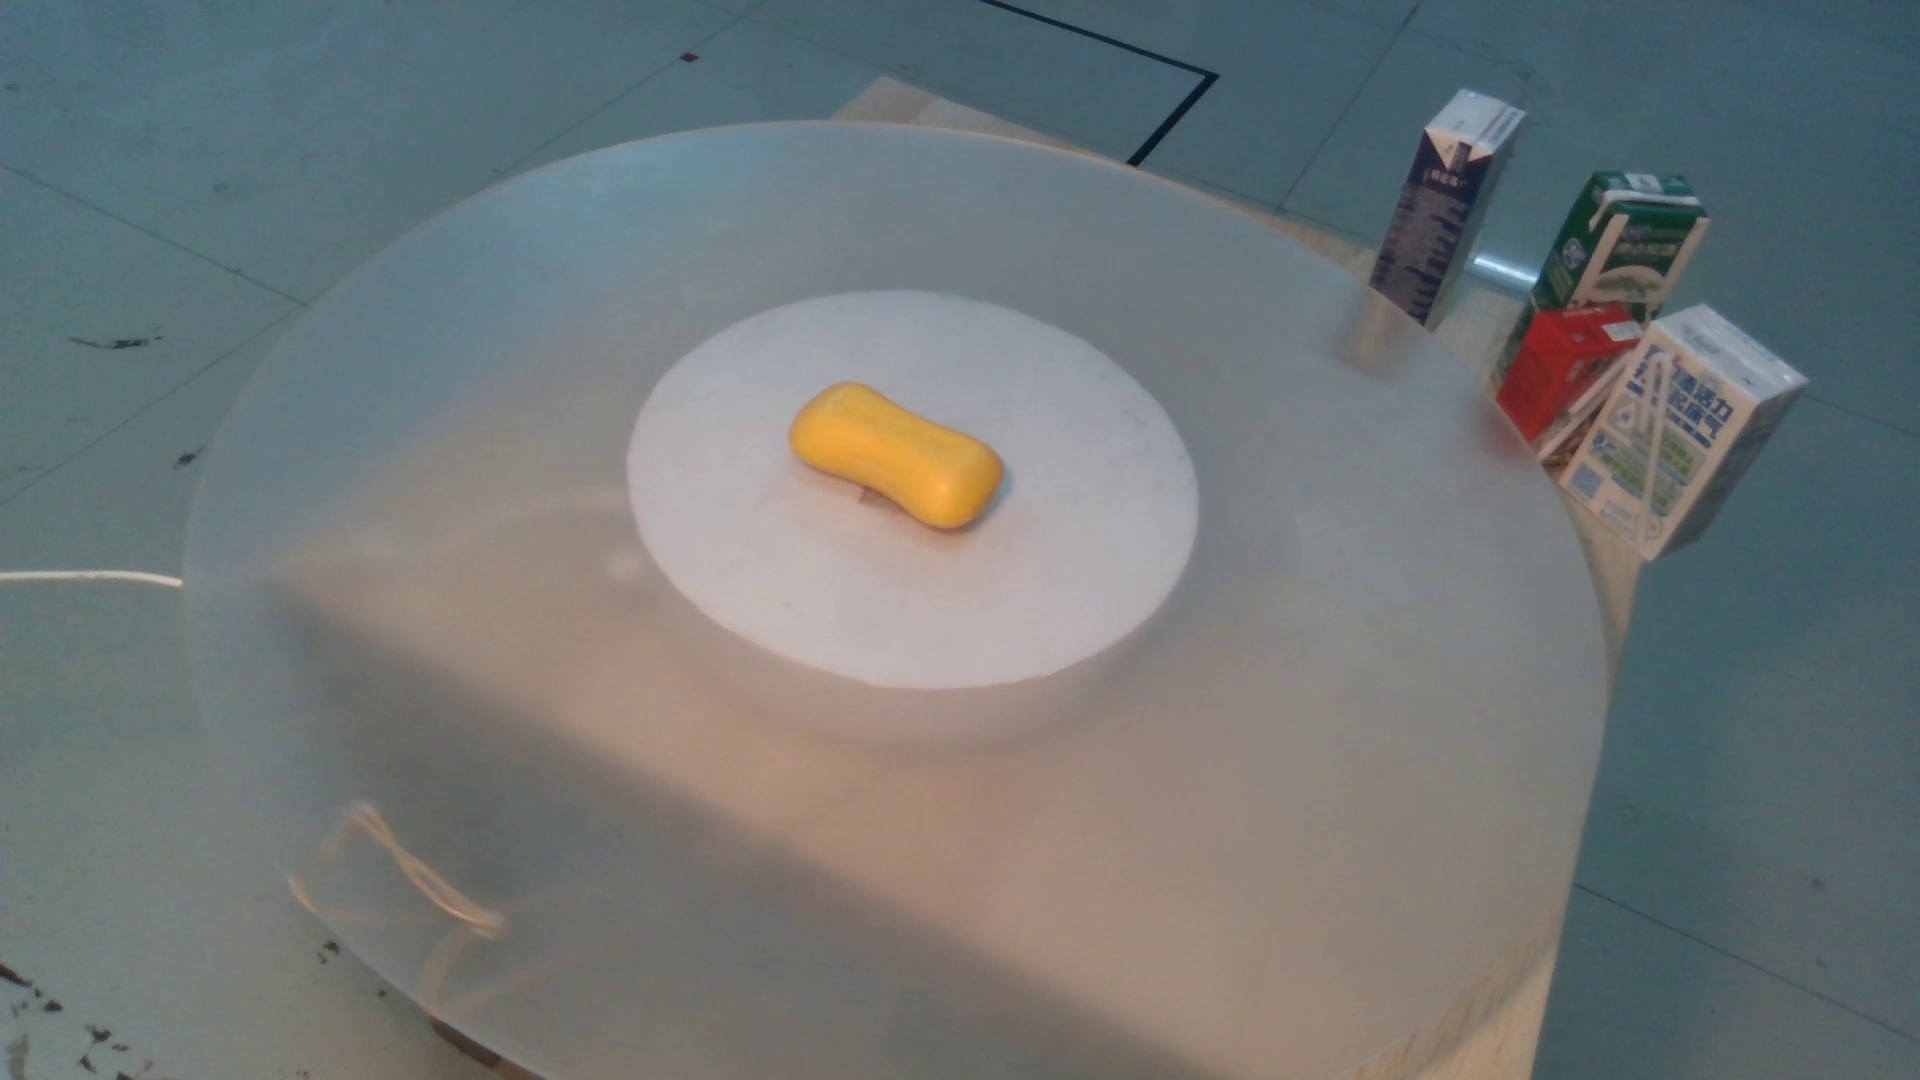CA003_1: (779, 371, 1036, 535)
